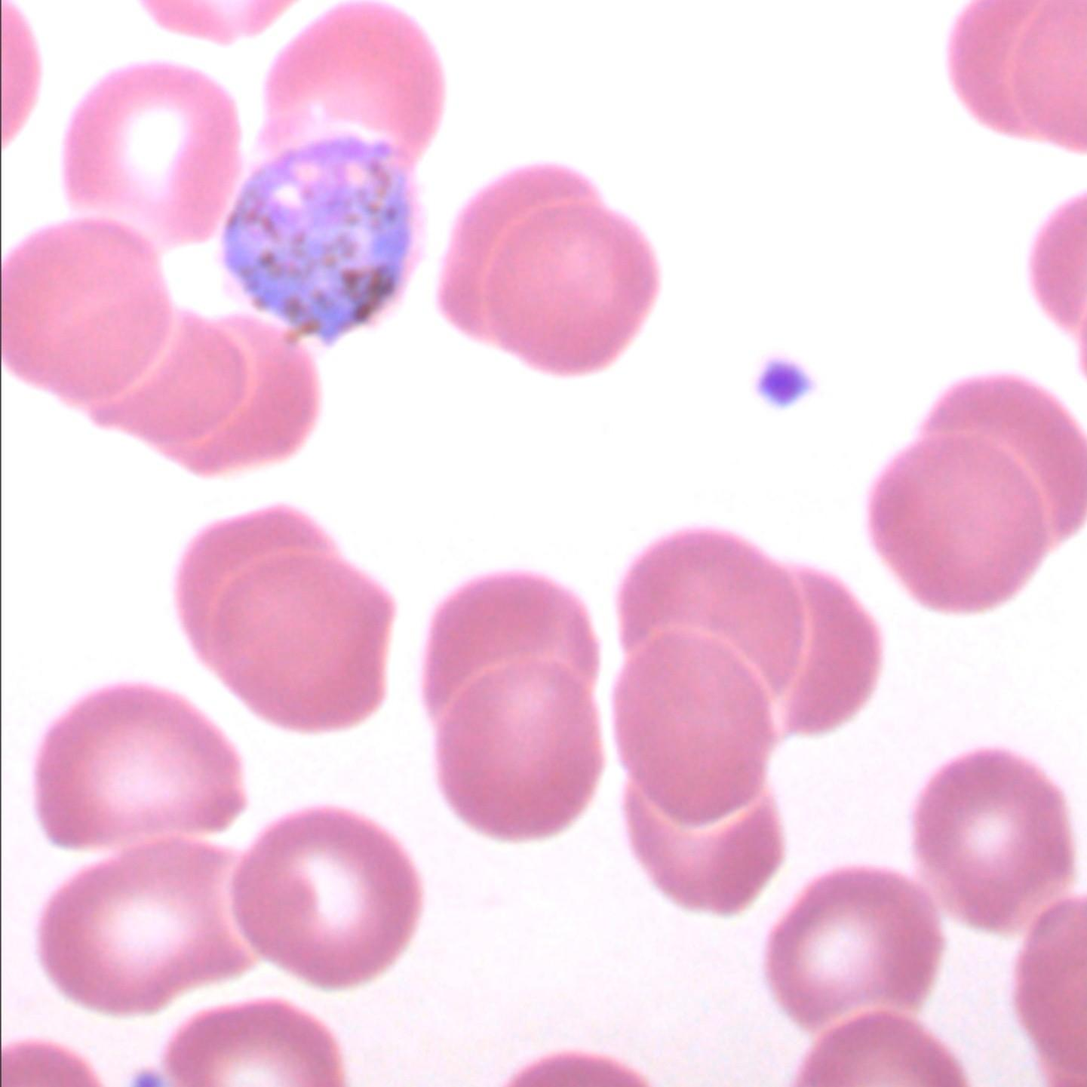Infected: (219, 129, 422, 342)
Uninfected: (41, 832, 255, 1013), (197, 548, 387, 730), (37, 684, 242, 850), (233, 807, 419, 989), (620, 531, 809, 705), (64, 63, 243, 242), (4, 218, 173, 405), (483, 205, 660, 379), (619, 627, 773, 824), (882, 429, 1051, 607), (138, 311, 321, 475), (914, 750, 1074, 931), (436, 657, 597, 831), (264, 2, 442, 159), (769, 869, 937, 1023), (428, 573, 597, 714), (624, 778, 785, 913), (184, 504, 361, 624), (775, 566, 882, 735), (920, 373, 1080, 485)
